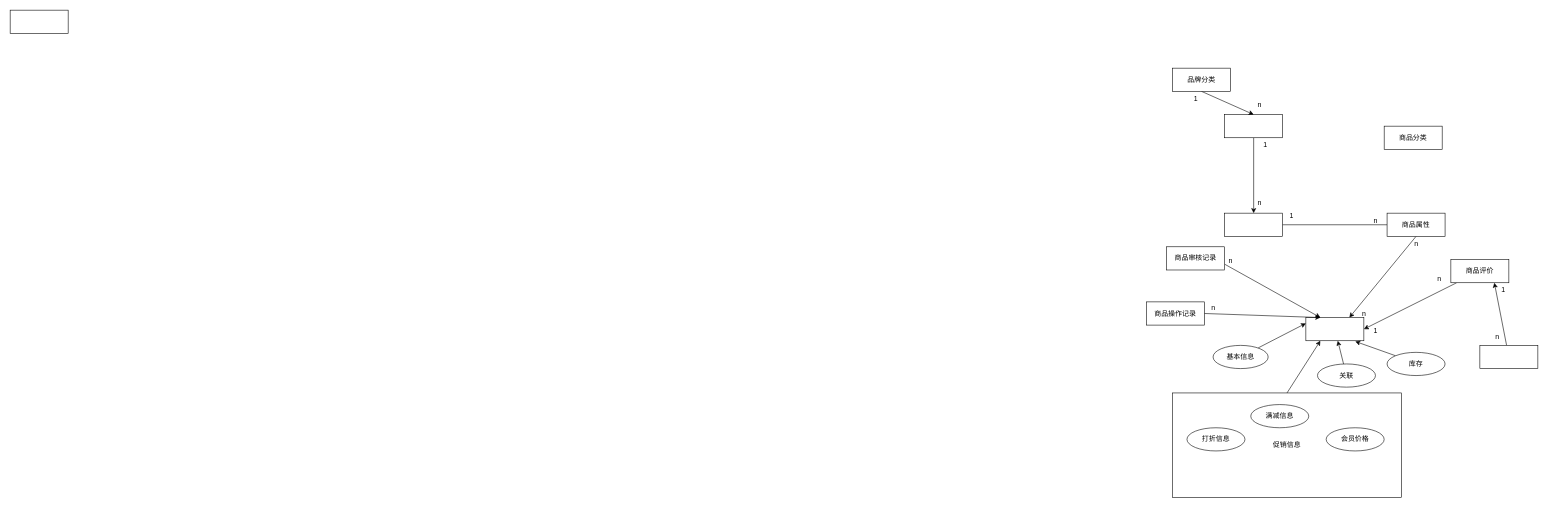
Some shapes in this 1548 by 508 pixel diagram are drawn without their labels. Here are the shapes that lost their labels. From the top down, the centre of each, then its label:
At (x=1253, y=126): "商品品牌".
At (x=1253, y=224): "商品属性分类".
At (x=1334, y=329): "商品".
At (x=1508, y=357): "用户".
